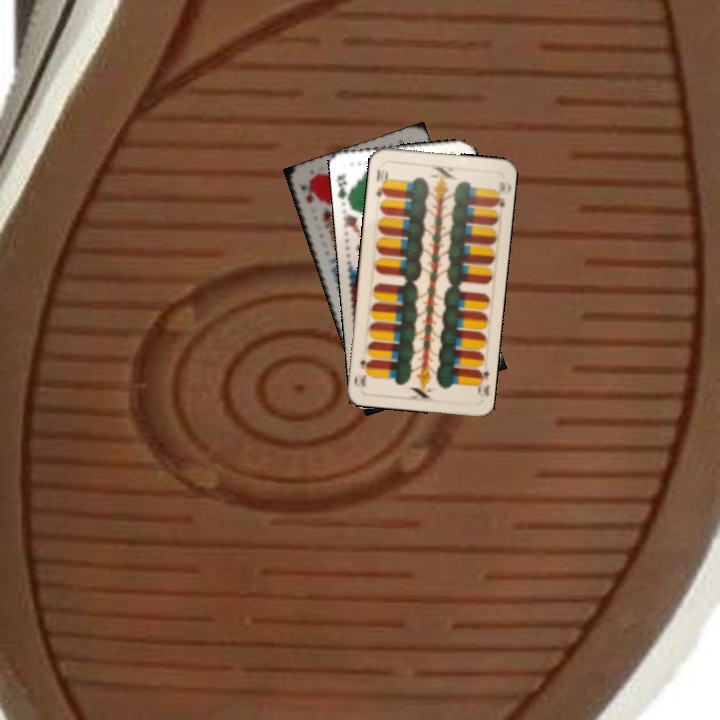E10: (471, 361, 492, 398), (372, 165, 391, 201)
GK: (333, 170, 354, 205)
HK: (297, 181, 316, 206)
